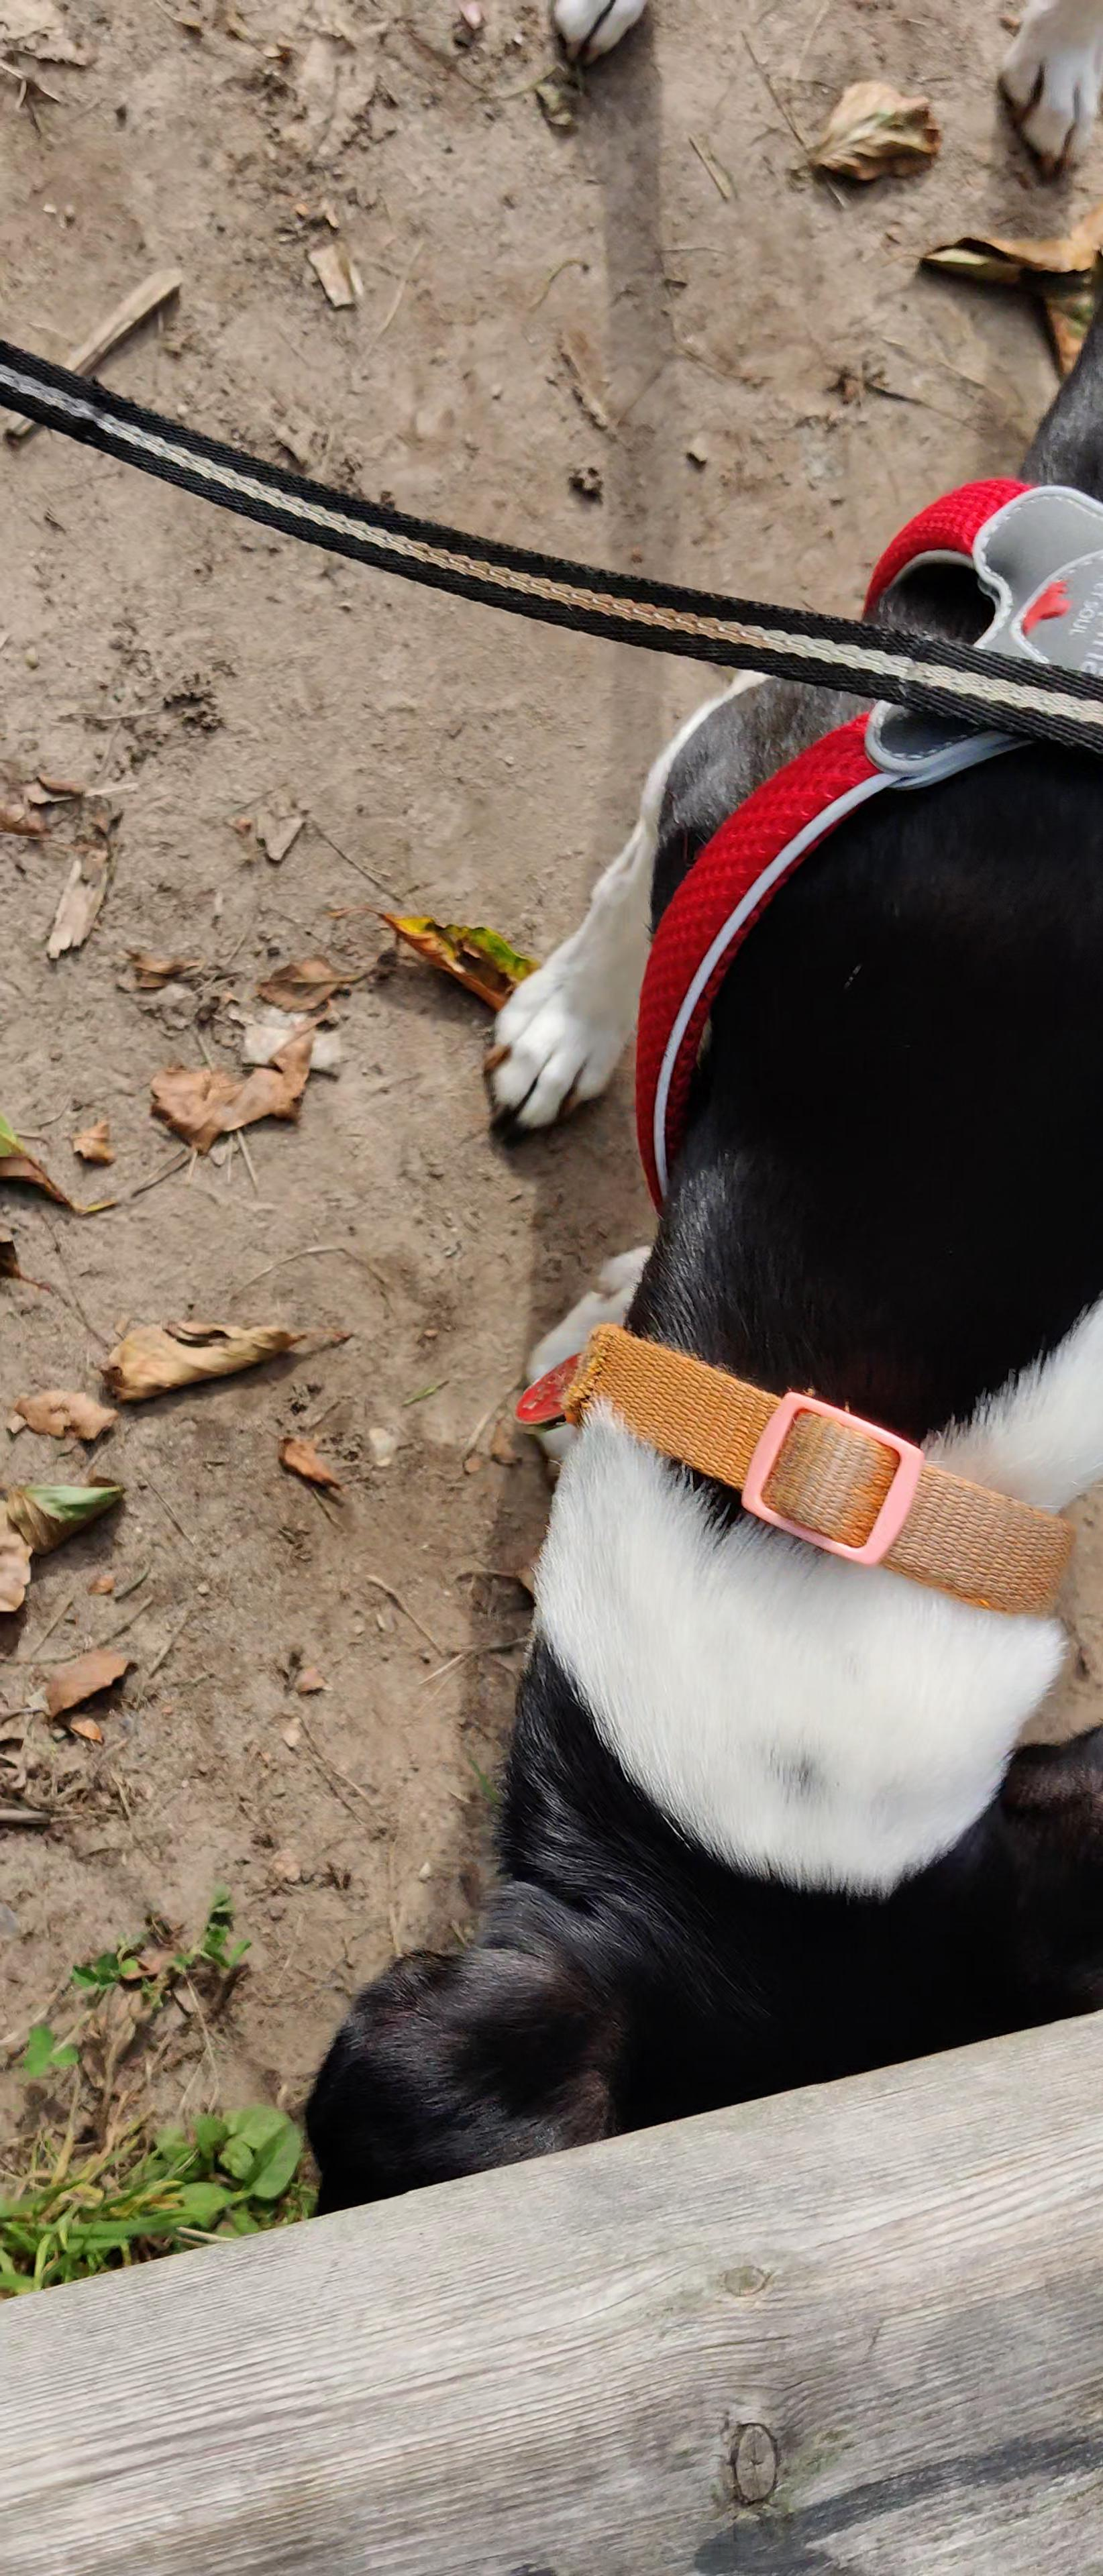Dog: (291, 0, 1103, 2261)
